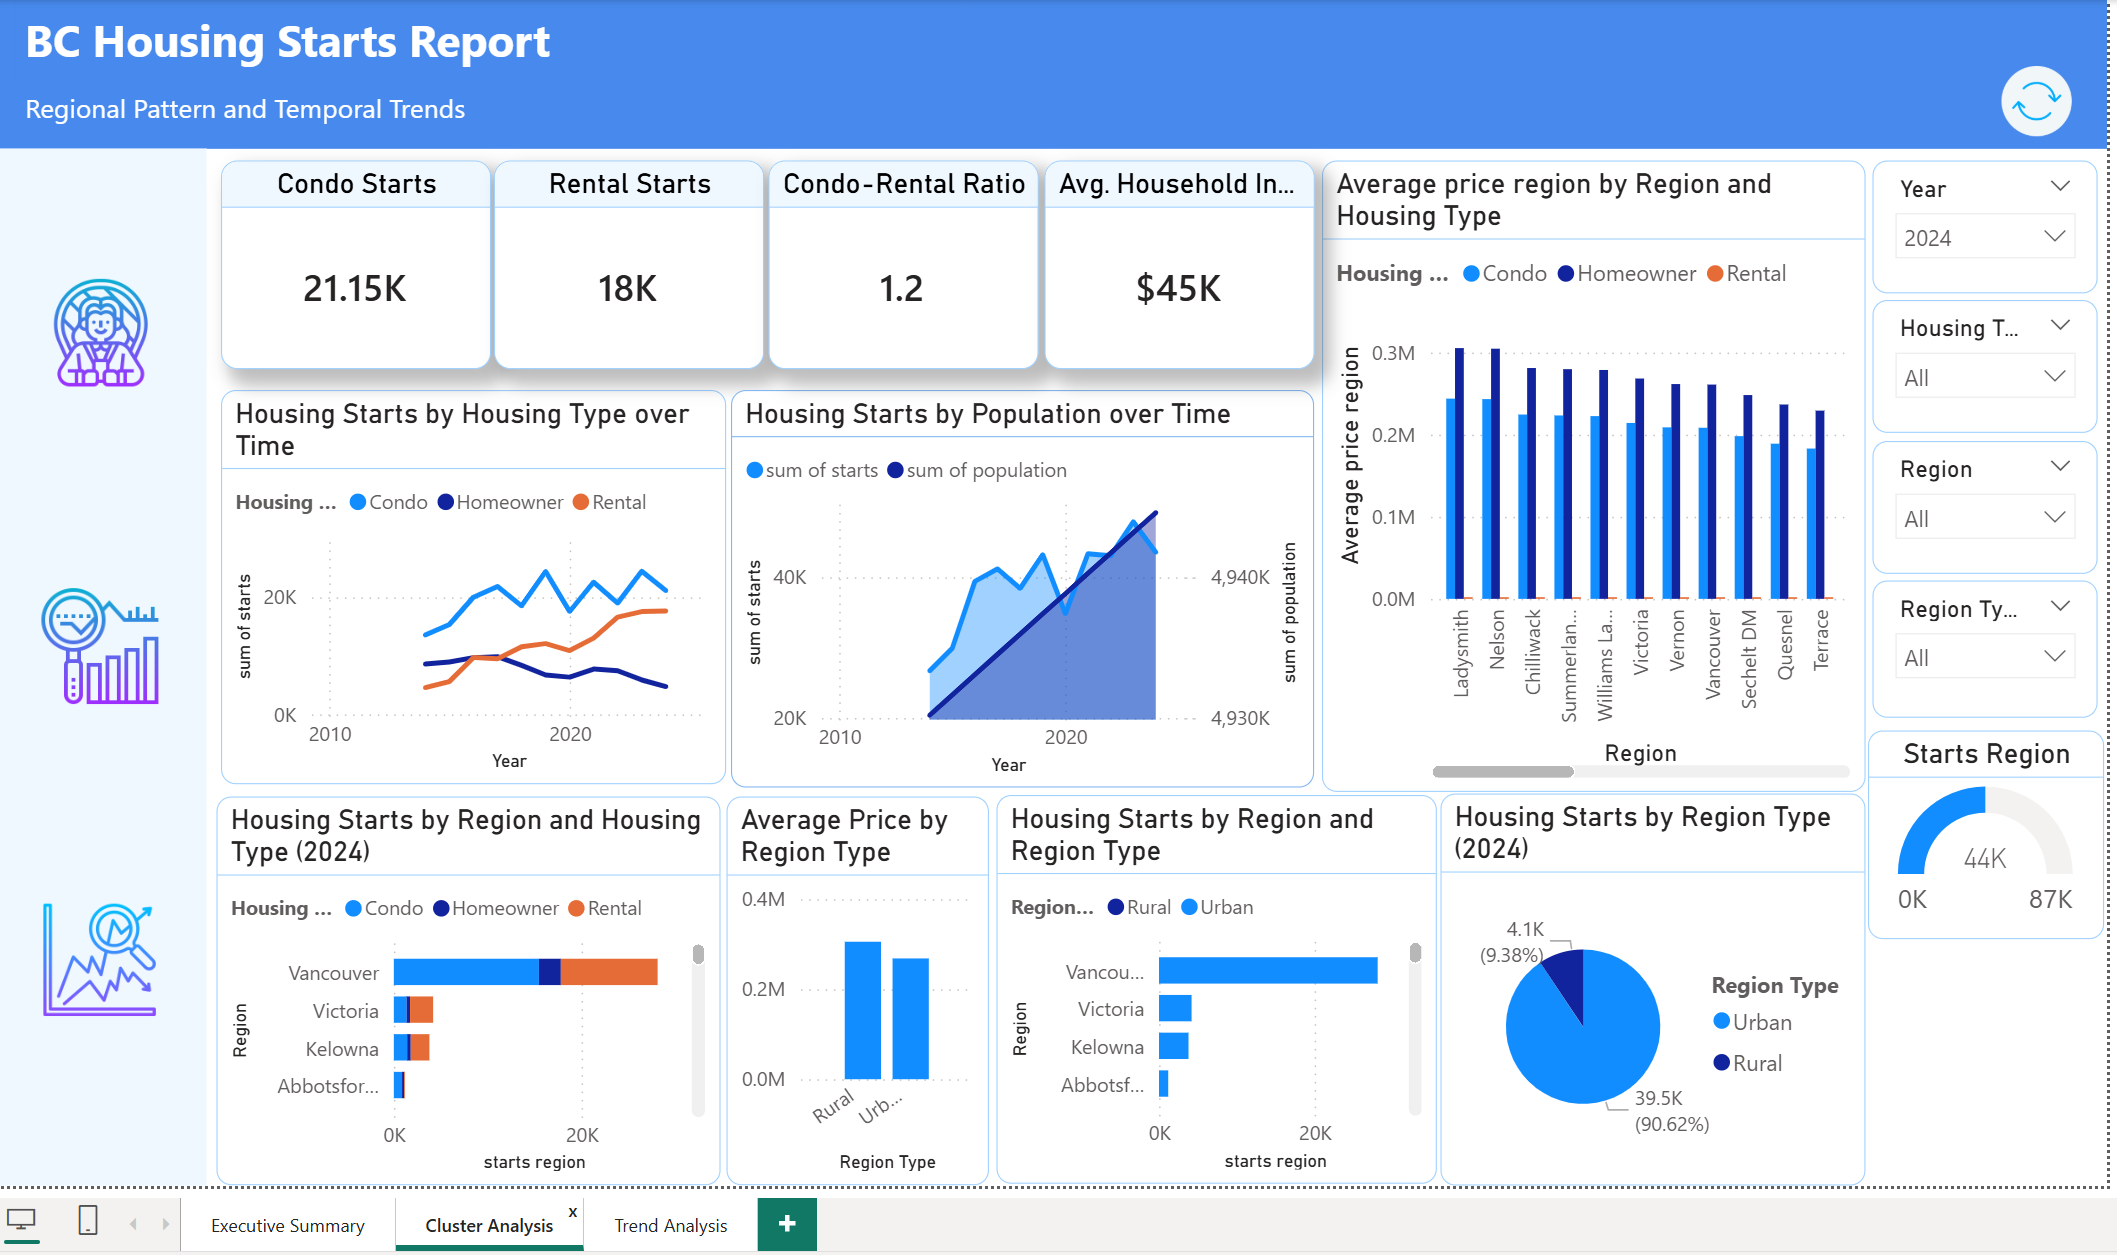

What the dashboard file says about the page in this screenshot:
{"tool":"powerbi","page":{"name":"Cluster Analysis","canvas":[1280,720],"ordinal":1},"visuals":[{"type":"group","id":"g1","title":"Group 6","box":[0,0,1280,90.4],"z":0},{"type":"image","box":[26,532.7,69.6,99.9],"z":0,"group":"g3"},{"type":"image","box":[1215.7,39.7,42.7,43],"z":1000},{"type":"actionButton","box":[16.4,527.1,83.5,111.4],"z":1000,"group":"g3"},{"type":"group","id":"g2","title":"Group 8","box":[0,90.4,125.9,629.7],"z":2000},{"type":"shape","box":[0,0,1280,90.4],"z":4000,"group":"g1"},{"type":"slicer","fields":{"Values":["DimHousing Type.Housing Type"]},"box":[1137.5,182,136.8,80.5],"z":4000},{"type":"textbox","box":[10.1,0,576.3,48.3],"z":5000,"group":"g1"},{"type":"slicer","fields":{"Values":["Date Table_.Year"]},"box":[1137.5,97.6,136.8,80.5],"z":5000},{"type":"shape","box":[0,90.4,125.9,629.7],"z":6000,"group":"g2"},{"type":"slicer","fields":{"Values":["DimRegion.Region"]},"box":[1137.5,267.5,136.8,80.5],"z":6000},{"type":"slicer","fields":{"Values":["DimRegion Type.Region Type"]},"box":[1137.5,352,136.8,83.5],"z":7000},{"type":"barChart","title":"Housing Starts by Region and Region Type","fields":{"Category":["DimRegion.Region"],"Y":["Measures Table.starts region"],"Series":["DimRegion Type.Region Type"]},"box":[605.2,482.9,267.7,236],"z":8000},{"type":"barChart","title":"Housing Starts by Region and Housing Type (2024)","fields":{"Category":["DimRegion.Region"],"Y":["Measures Table.starts region"],"Series":["DimHousing Type.Housing Type"]},"box":[132.2,484,305.9,236],"z":9000},{"type":"pieChart","title":"Housing Starts by Region Type (2024)","fields":{"Category":["DimRegion Type.Region Type"],"Y":["Measures Table.starts region"]},"box":[875.1,481.8,257.8,238.2],"z":10000},{"type":"lineChart","title":"Housing Starts by Housing Type over Time","fields":{"Category":["Date Table_.Year"],"Y":["Measures Table.sum of starts"],"Series":["DimHousing Type.Housing Type"]},"box":[134.4,237.1,307,239.3],"z":11000},{"type":"cardVisual","title":"Condo Starts","fields":{"Data":["Measures Table.Total condo starts"]},"box":[134.4,97.2,163.9,126.7],"z":12000},{"type":"clusteredColumnChart","title":"Average Price by Region Type","fields":{"Category":["DimRegion Type.Region Type"],"Y":["Measures Table.Average price region"]},"box":[441.4,484,159.5,236],"z":13000},{"type":"group","id":"g3","title":"Group 1","box":[16.4,527.1,83.5,111.4],"z":14000,"group":"g2"},{"type":"cardVisual","title":"Rental Starts","fields":{"Data":["Measures Table.Total rental starts"]},"box":[300.4,97.2,163.9,126.7],"z":15000},{"type":"group","id":"g4","title":"Group 2","box":[19.8,334.9,82.1,108.4],"z":15000,"group":"g2"},{"type":"group","id":"g5","title":"Group 3","box":[20.9,148.5,82.1,99.7],"z":16000,"group":"g2"},{"type":"image","box":[28.7,157.1,65.1,91.1],"z":16000,"group":"g5"},{"type":"image","box":[24.4,340.2,73,103.1],"z":16000,"group":"g4"},{"type":"gauge","title":"Starts Region","fields":{"Y":["Measures Table.starts region"]},"box":[1135.1,443.5,143.1,126.7],"z":16000},{"type":"areaChart","title":"Housing Starts by Population over Time","fields":{"Category":["Date Table_.Year"],"Y":["Measures Table.sum of starts"],"Y2":["Measures Table.sum of population"]},"box":[444.6,237.1,354,241.4],"z":17000},{"type":"actionButton","box":[19.8,334.9,82.1,104.2],"z":17003,"group":"g4"},{"type":"actionButton","box":[20.9,148.5,82.1,97.1],"z":18000,"group":"g5"},{"type":"actionButton","box":[1198.5,32.4,77.7,55.7],"z":19000},{"type":"textbox","box":[11.3,49.6,321.4,35],"z":20000},{"type":"clusteredColumnChart","fields":{"Y":["Measures Table.Average price region"],"Category":["DimRegion.Region"],"Series":["DimHousing Type.Housing Type"]},"box":[803,97.2,329.9,383.5],"z":20001},{"type":"cardVisual","title":"Condo-Rental Ratio","fields":{"Data":["Measures Table.Condo-to-Rental Ratio"]},"box":[467.6,97.2,163.9,126.7],"z":20002},{"type":"cardVisual","title":"Avg. Household Income","fields":{"Data":["Sum(Housing Metrics Fact Grouped.Ave Household Income)"]},"box":[634.7,97.2,163.9,126.7],"z":20003}]}

Visuals, with their boxes on the page's 1280x720 design canvas (x1, y1, x2, y2). These are canvas units, not pixel positions in the 2117x1255 screenshot, which may show the page scaled, cropped or inside an application window:
"Group 6" group: bbox(0, 0, 1280, 90)
image: bbox(26, 533, 96, 633)
image: bbox(1216, 40, 1258, 83)
actionButton: bbox(16, 527, 100, 638)
"Group 8" group: bbox(0, 90, 126, 720)
shape: bbox(0, 0, 1280, 90)
slicer - DimHousing Type.Housing Type: bbox(1138, 182, 1274, 262)
textbox: bbox(10, 0, 586, 48)
slicer - Date Table_.Year: bbox(1138, 98, 1274, 178)
shape: bbox(0, 90, 126, 720)
slicer - DimRegion.Region: bbox(1138, 268, 1274, 348)
slicer - DimRegion Type.Region Type: bbox(1138, 352, 1274, 436)
"Housing Starts by Region and Region Type" barChart: bbox(605, 483, 873, 719)
"Housing Starts by Region and Housing Type (2024)" barChart: bbox(132, 484, 438, 720)
"Housing Starts by Region Type (2024)" pieChart: bbox(875, 482, 1133, 720)
"Housing Starts by Housing Type over Time" lineChart: bbox(134, 237, 441, 476)
"Condo Starts" cardVisual: bbox(134, 97, 298, 224)
"Average Price by Region Type" clusteredColumnChart: bbox(441, 484, 601, 720)
"Group 1" group: bbox(16, 527, 100, 638)
"Rental Starts" cardVisual: bbox(300, 97, 464, 224)
"Group 2" group: bbox(20, 335, 102, 443)
"Group 3" group: bbox(21, 148, 103, 248)
image: bbox(29, 157, 94, 248)
image: bbox(24, 340, 97, 443)
"Starts Region" gauge: bbox(1135, 444, 1278, 570)
"Housing Starts by Population over Time" areaChart: bbox(445, 237, 799, 478)
actionButton: bbox(20, 335, 102, 439)
actionButton: bbox(21, 148, 103, 246)
actionButton: bbox(1198, 32, 1276, 88)
textbox: bbox(11, 50, 333, 85)
clusteredColumnChart - Measures Table.Average price region x DimRegion.Region: bbox(803, 97, 1133, 481)
"Condo-Rental Ratio" cardVisual: bbox(468, 97, 632, 224)
"Avg. Household Income" cardVisual: bbox(635, 97, 799, 224)
